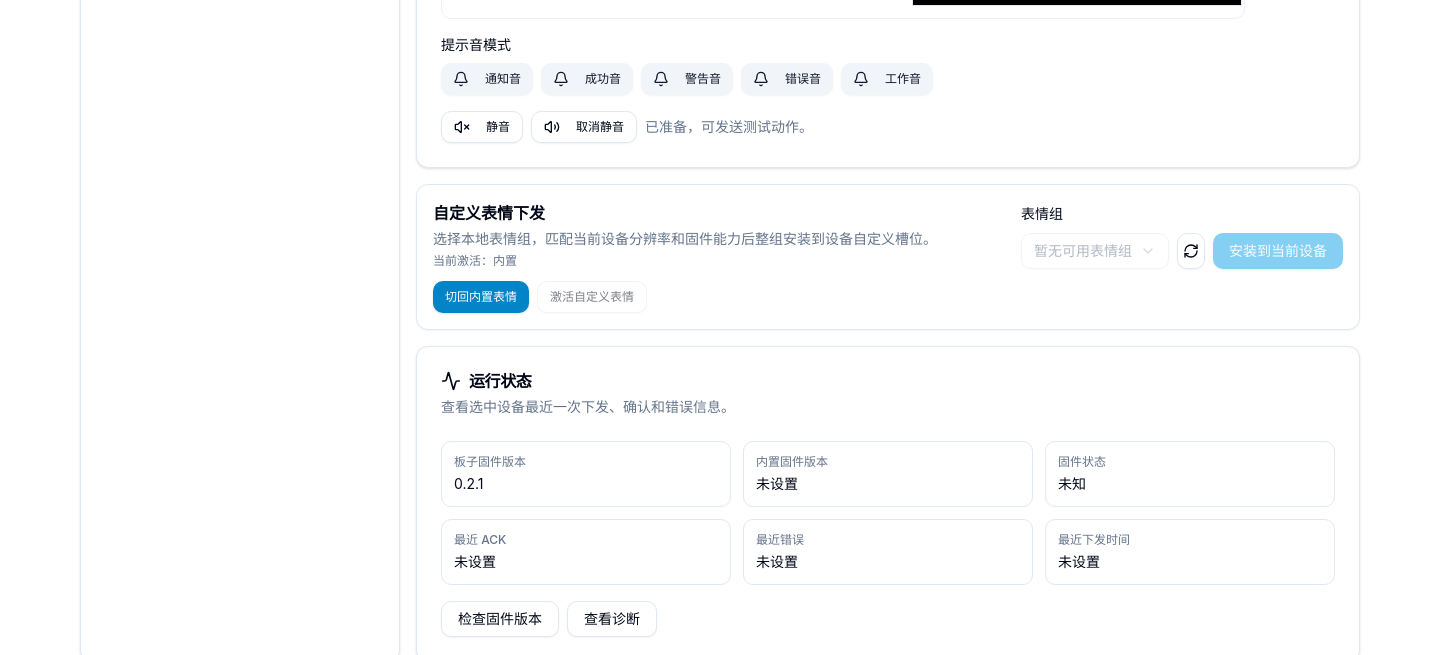
Test: DevicesPage › reloads custom face groups from the install panel action
(page scrolled)
Expected: the text "Wio group" is not shown
Click the button named "刷新表情组列表" at (1191, 250), box [1177, 232, 1205, 268]
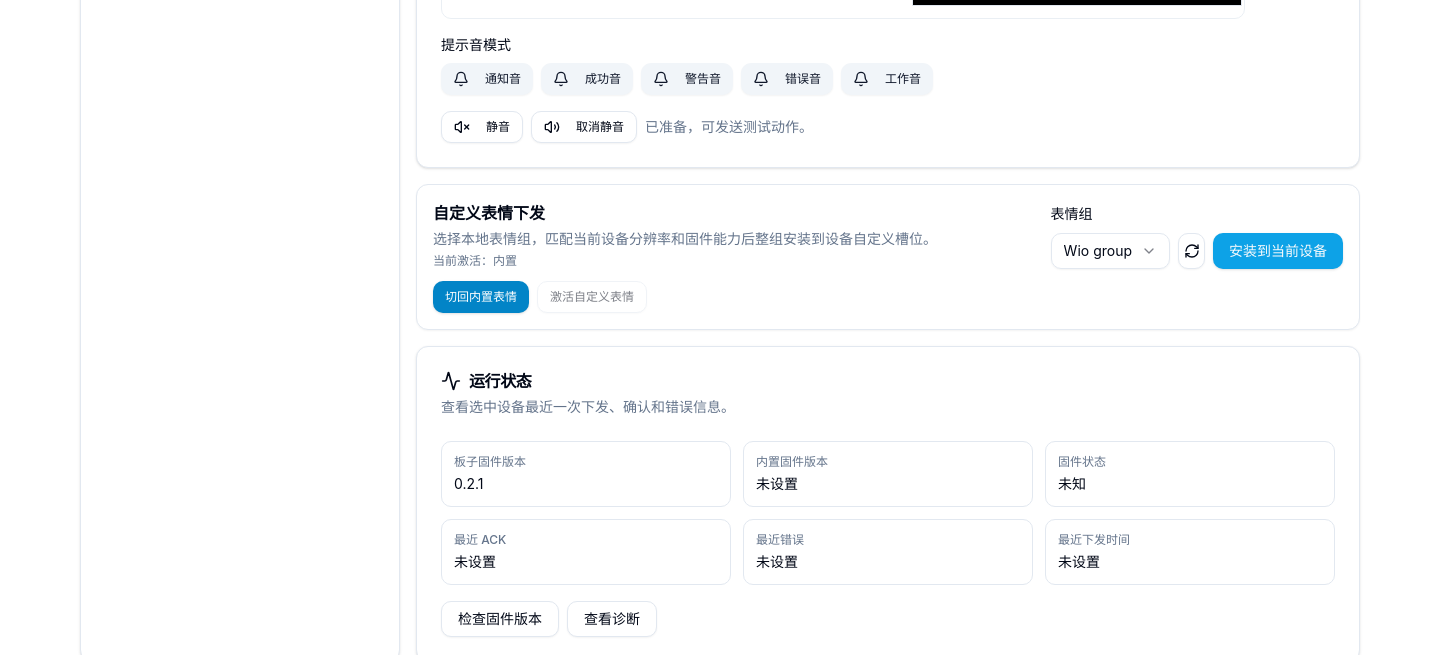
Expected: the text "Wio group" is shown, [1064, 240, 1132, 260]
